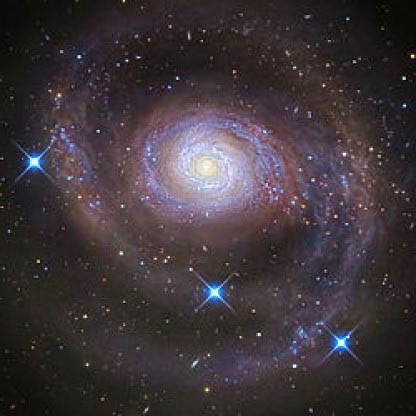Messier 94: (22, 15, 388, 384)
